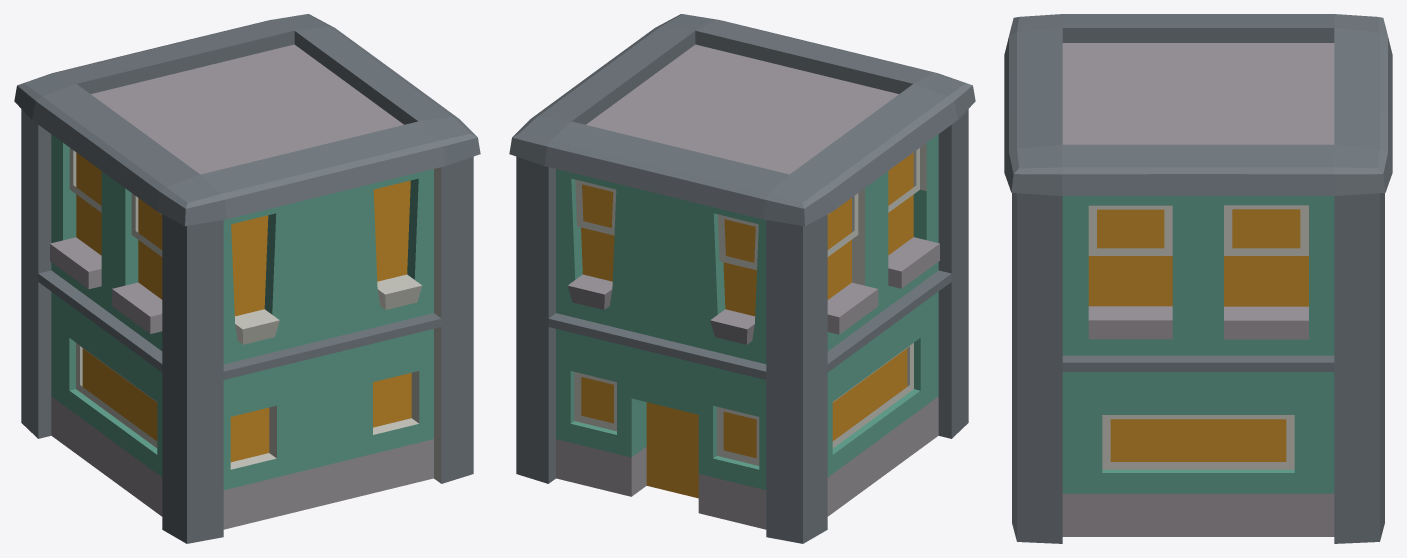
Rendered from sonhodacasapropria.fbx.
3 views of the same model, side by side, from view 1: azimuth 30°, elevation 25°; view 2: azimuth 150°, elevation 25°; view 3: azimuth 270°, elevation 25° (orthographic). The views are drawn at different scales.
Parts seen in each view (by area): view 1: Cube; view 2: Cube; view 3: Cube.
Boxes of the visible parts, x1,y1,x2,y2 form: Cube: (14,14,480,543); Cube: (509,14,975,543); Cube: (1004,14,1392,543).
Bounding box in the file's own units: 2335 × 2513 × 2335.
